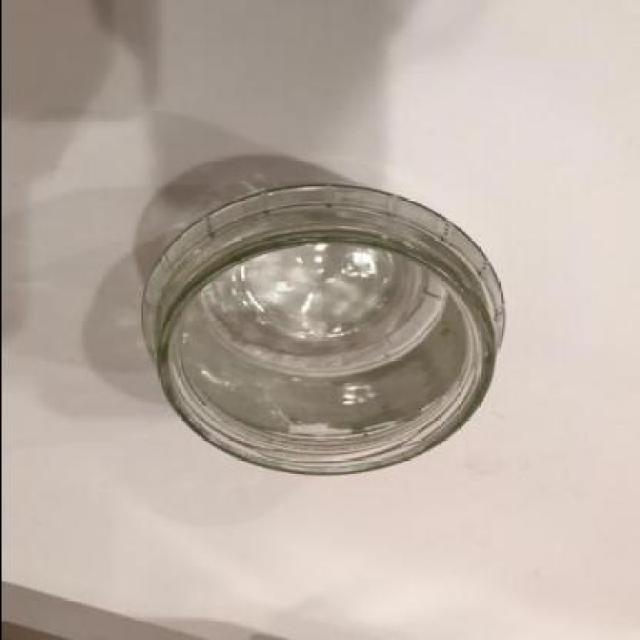GLASS: (145, 186, 504, 479)
